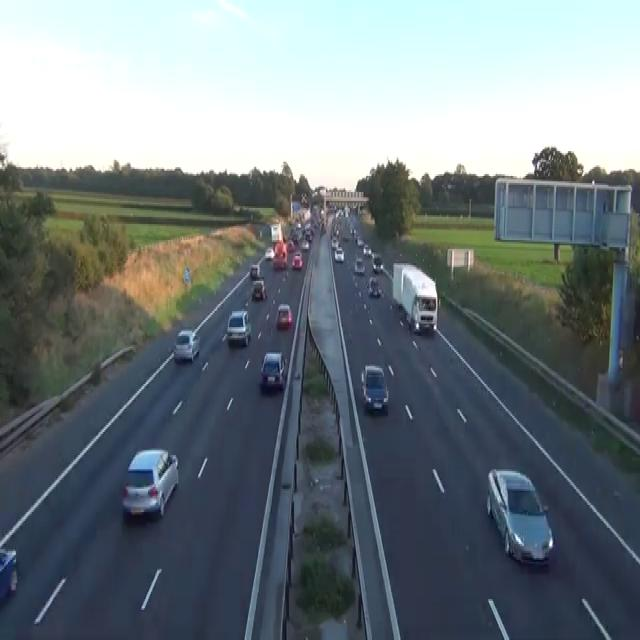Car: (486, 468, 554, 566), (121, 448, 179, 519), (361, 364, 389, 414), (0, 548, 18, 608), (260, 352, 287, 391), (226, 309, 251, 347), (173, 329, 199, 363), (276, 302, 292, 329), (251, 279, 267, 301), (441, 176, 466, 190), (366, 275, 380, 297), (272, 254, 287, 268), (292, 250, 303, 268), (372, 256, 383, 274), (354, 256, 365, 274), (334, 246, 344, 262), (250, 263, 260, 279), (264, 246, 274, 260), (331, 236, 339, 249), (304, 229, 312, 242), (286, 238, 294, 251), (300, 240, 309, 251), (363, 244, 371, 256), (319, 222, 325, 235), (356, 237, 364, 246), (335, 208, 343, 217), (344, 204, 349, 217), (328, 202, 336, 210), (351, 226, 356, 236), (259, 274, 265, 282), (259, 230, 262, 238)
Truck: (392, 262, 438, 334), (270, 222, 282, 242)
